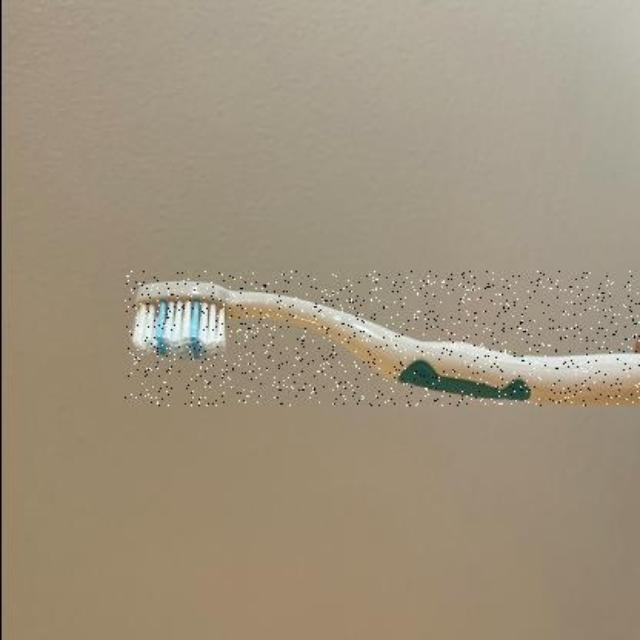toothbrush: (124, 270, 640, 406)
